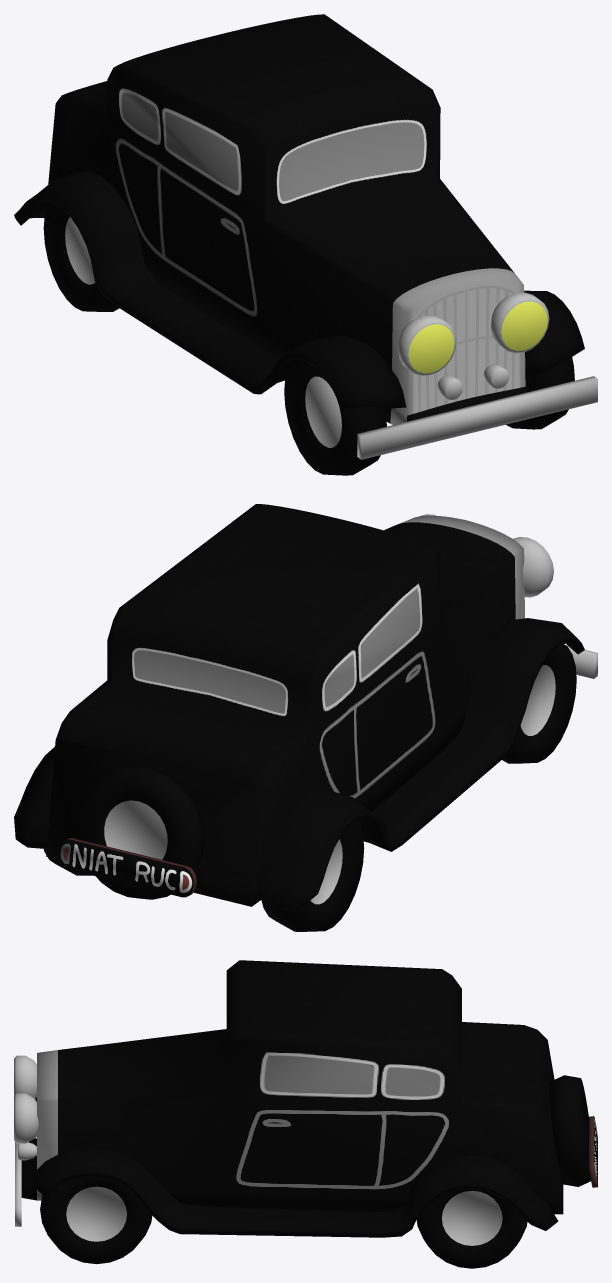
The model's file is bentley.glb.
3 views of the same model, one above another, from view 1: azimuth 30°, elevation 25°; view 2: azimuth 150°, elevation 25°; view 3: azimuth 270°, elevation 25° (orthographic). The views are drawn at different scales.
Parts seen in each view (by area): view 1: body; view 2: body; view 3: body.
Boxes of the visible parts, x1,y1,x2,y2 form: body: [14, 14, 597, 475]; body: [14, 504, 597, 931]; body: [14, 960, 597, 1268].
Size of the model in its own units: 1.15 by 1.01 by 2.31.
Materials: 5 (2 with a texture image).
